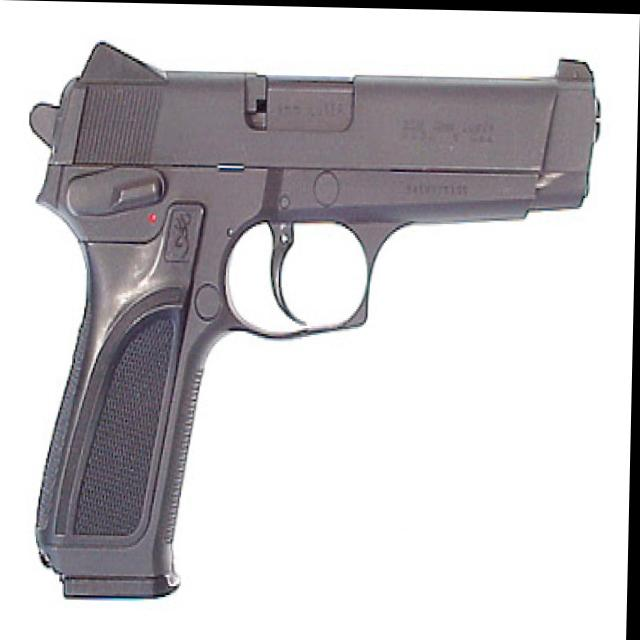handgun: (19, 36, 602, 606)
